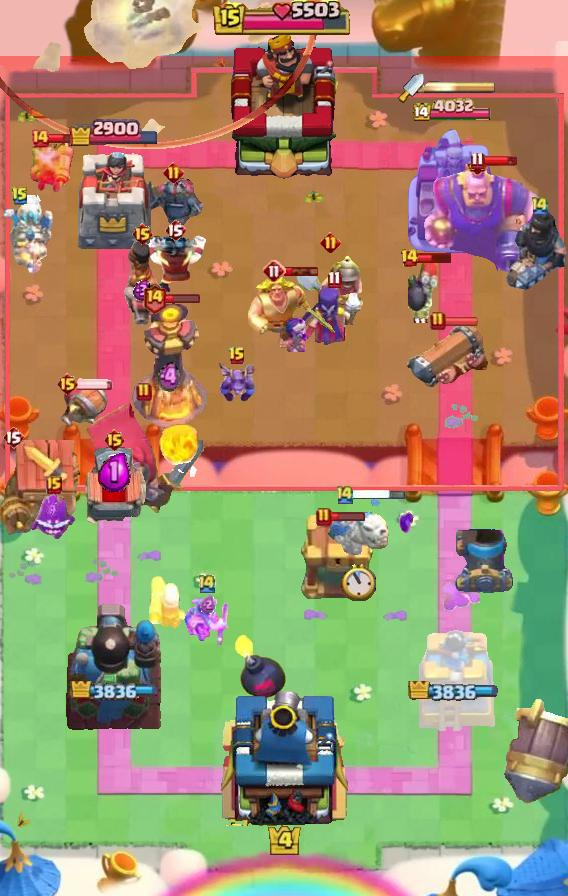axe: (296, 286, 372, 348)
baby-dragon: (233, 632, 287, 700)
bandit: (295, 252, 365, 318)
bar: (403, 124, 503, 256)
battle-healer: (404, 322, 492, 394)
battle-ram: (142, 178, 204, 226)
bomb: (296, 514, 374, 602)
clock: (213, 0, 355, 38)
electro-dragon: (130, 301, 208, 427)
electro-spirit: (97, 452, 130, 493), (158, 362, 180, 394), (133, 279, 151, 301), (201, 595, 215, 613)
elite-barbarian: (120, 240, 164, 326)
elixir: (341, 563, 376, 601)
elixir-golem-mid: (79, 446, 149, 532)
emote: (353, 487, 407, 500), (416, 251, 453, 264), (76, 378, 114, 390), (482, 155, 518, 167), (443, 316, 479, 328), (48, 132, 83, 144), (164, 292, 201, 303), (284, 266, 320, 277), (330, 511, 366, 522)
giant-snowball: (183, 597, 231, 649)
goblin: (283, 318, 310, 352)
goblin-hut: (244, 273, 338, 351)
ice-golem: (408, 257, 440, 323)
inferno-dragon: (504, 209, 568, 292)
king-tower: (214, 684, 354, 826), (222, 31, 346, 181)
king-tower-bar: (424, 80, 496, 94)
knight: (56, 381, 110, 433)
lightning: (422, 164, 550, 278)
lumberjack: (140, 234, 210, 294)
mini-pekka: (0, 195, 56, 279), (325, 497, 391, 561)
musketeer: (455, 529, 515, 593)
queen-tower: (403, 621, 503, 731), (71, 144, 157, 255)
royal-delivery: (216, 361, 258, 405)
royal-ghost: (0, 0, 320, 148)
selected: (68, 117, 160, 146), (414, 98, 495, 124), (409, 681, 500, 701), (69, 680, 158, 699)
sparky: (0, 439, 86, 537)
spear-goblin: (30, 492, 78, 544)
text: (142, 282, 167, 313), (130, 222, 154, 246), (262, 259, 286, 283), (56, 372, 79, 396), (102, 428, 125, 452), (164, 218, 186, 242), (2, 425, 24, 449), (163, 161, 185, 182), (320, 231, 341, 252), (530, 196, 550, 217), (335, 483, 355, 504), (197, 574, 217, 595), (30, 128, 50, 148), (400, 248, 420, 268), (11, 186, 29, 206), (228, 346, 246, 366), (430, 311, 446, 331), (136, 382, 152, 402), (316, 507, 332, 527), (46, 476, 62, 494), (470, 150, 485, 169), (327, 271, 341, 289)
tombstone: (28, 135, 74, 197), (147, 573, 189, 631)
tower-bar: (64, 601, 164, 731)
valkyrie: (155, 417, 203, 477)
wall-breaker-evolution: (83, 400, 205, 514)
x-bow: (504, 697, 568, 804)
